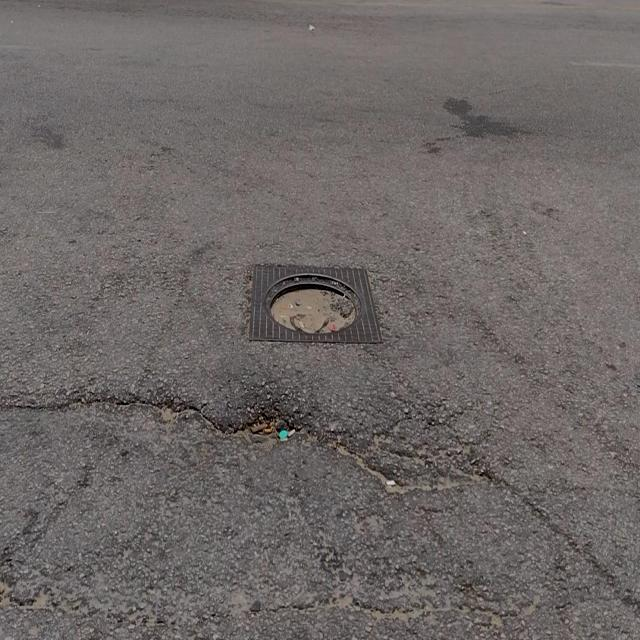Potholes: (262, 270, 364, 338)
